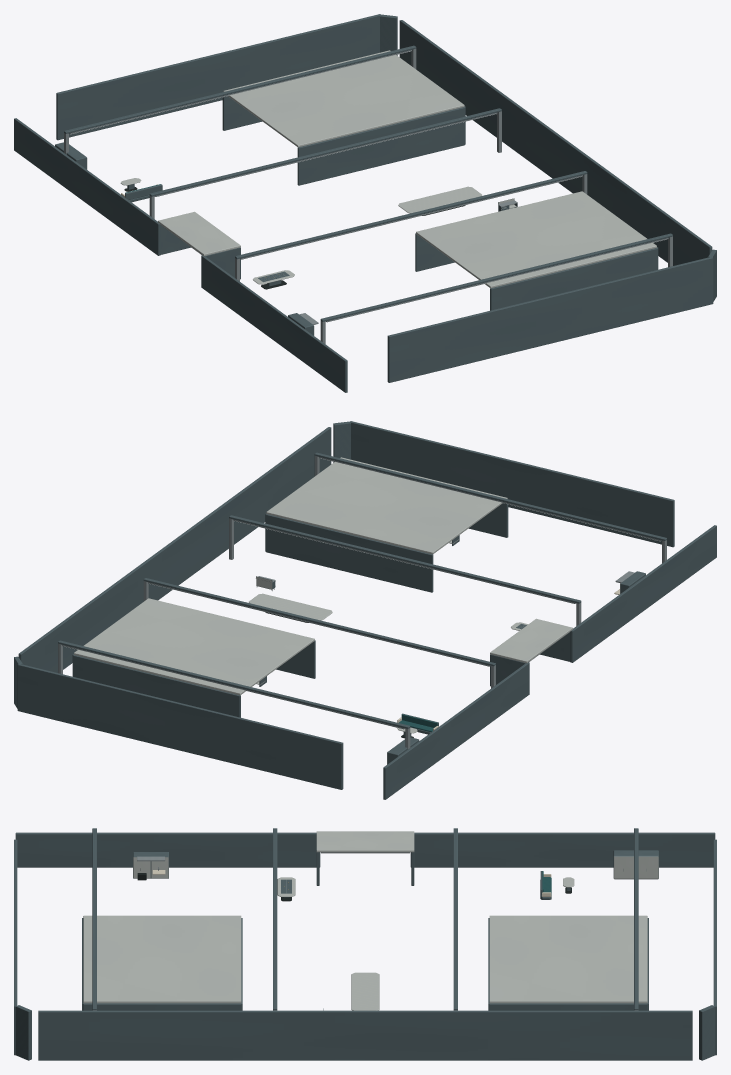
Rendered from SOL_D01_directory_02_source001.glb.
3 renders of one model, top to bottom at view 1: azimuth 30°, elevation 25°; view 2: azimuth 150°, elevation 25°; view 3: azimuth 270°, elevation 25°, orthographic. The views are drawn at different scales.
Visible parts, largest first — view 1: A_edge1, A_edge-1, A_back, A_cold_store0_insulated_cap, A_cold_store1_insulated_cap, A_cold_store0_side_b, A_inward_screen1, A_inward_screen-1, A_cold_store1_side_b, A_arrival_lintel, A_working_rib3_beam, A_working_rib1_beam (+8 smaller); view 2: A_edge-1, A_edge1, A_back, A_cold_store1_insulated_cap, A_cold_store0_insulated_cap, A_cold_store1_side_a, A_inward_screen-1, A_inward_screen1, A_cold_store0_side_a, A_arrival_lintel, A_working_rib0_beam, A_working_rib2_beam (+8 smaller); view 3: A_back, A_cold_store0_insulated_cap, A_cold_store1_insulated_cap, A_inward_screen1, A_inward_screen-1, A_arrival_lintel, A_cold_store0_rear, A_cold_store1_rear, A_inspection_top, A_working_rib0_beam, A_working_rib3_beam, A_working_rib1_beam (+7 smaller).
Boxes of the visible parts, <box> form: A_edge1: <box>387,257,713,382</box>; A_edge-1: <box>56,14,380,140</box>; A_back: <box>399,20,712,265</box>; A_cold_store0_insulated_cap: <box>223,50,464,147</box>; A_cold_store1_insulated_cap: <box>416,191,656,288</box>; A_cold_store0_side_b: <box>297,107,465,185</box>; A_inward_screen1: <box>201,255,347,392</box>; A_inward_screen-1: <box>14,118,160,255</box>; A_cold_store1_side_b: <box>490,248,657,310</box>; A_arrival_lintel: <box>158,211,240,256</box>; A_working_rib3_beam: <box>320,233,672,321</box>; A_working_rib1_beam: <box>149,108,501,196</box>; A_edge-1: <box>17,664,343,789</box>; A_edge1: <box>350,421,674,547</box>; A_back: <box>18,427,331,672</box>; A_cold_store1_insulated_cap: <box>266,457,507,554</box>; A_cold_store0_insulated_cap: <box>74,598,314,695</box>; A_cold_store1_side_a: <box>265,514,433,592</box>; A_inward_screen-1: <box>383,662,529,799</box>; A_inward_screen1: <box>570,525,716,662</box>; A_cold_store0_side_a: <box>73,655,240,717</box>; A_arrival_lintel: <box>490,618,572,663</box>; A_working_rib0_beam: <box>58,640,410,728</box>; A_working_rib2_beam: <box>229,515,581,603</box>; A_back: <box>38,1010,692,1060</box>; A_cold_store0_insulated_cap: <box>489,915,647,1003</box>; A_cold_store1_insulated_cap: <box>83,915,241,1003</box>; A_inward_screen1: <box>15,832,320,867</box>; A_inward_screen-1: <box>410,832,715,867</box>; A_arrival_lintel: <box>316,831,414,852</box>; A_cold_store0_rear: <box>489,1003,647,1010</box>; A_cold_store1_rear: <box>83,1003,241,1010</box>; A_inspection_top: <box>351,972,379,1010</box>; A_working_rib0_beam: <box>634,828,638,1010</box>; A_working_rib3_beam: <box>92,828,96,1010</box>; A_working_rib1_beam: <box>453,828,457,1010</box>.
Size of the model in its own units: 40.79 by 4.8 by 62.3.
12 materials, 12 textured.
